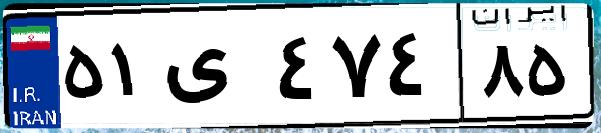1: (110, 28, 158, 98)
4: (270, 28, 330, 110), (385, 28, 445, 110)
5: (57, 26, 110, 100), (525, 38, 570, 115)
7: (330, 28, 385, 110)
8: (475, 38, 525, 113)
ی: (158, 20, 270, 120)
